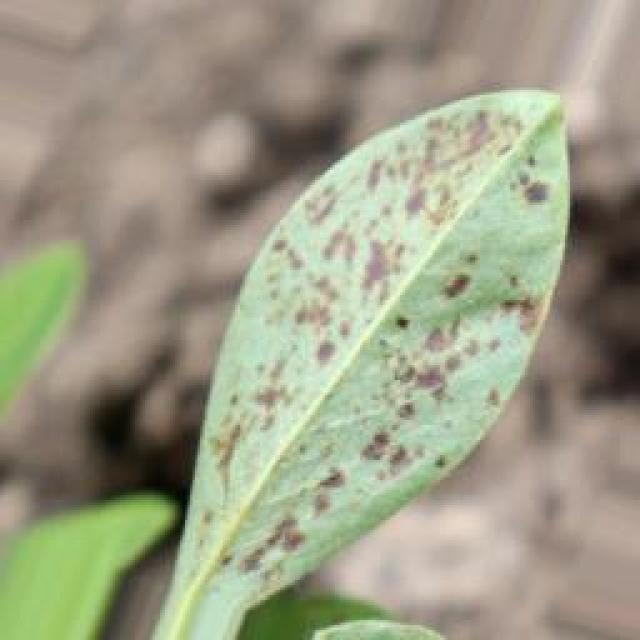Whitefly: (175, 54, 564, 638)
